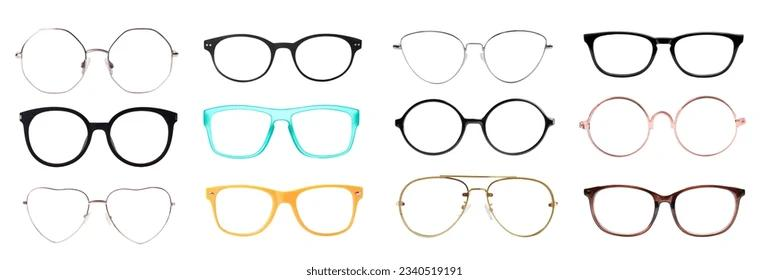spectacles: (387, 175, 560, 242), (199, 180, 368, 245), (567, 99, 749, 159), (16, 104, 181, 170), (14, 33, 187, 95), (14, 183, 178, 247), (194, 102, 363, 164), (388, 99, 557, 160), (576, 31, 745, 82), (206, 33, 364, 87), (387, 33, 553, 84), (576, 188, 747, 236)
